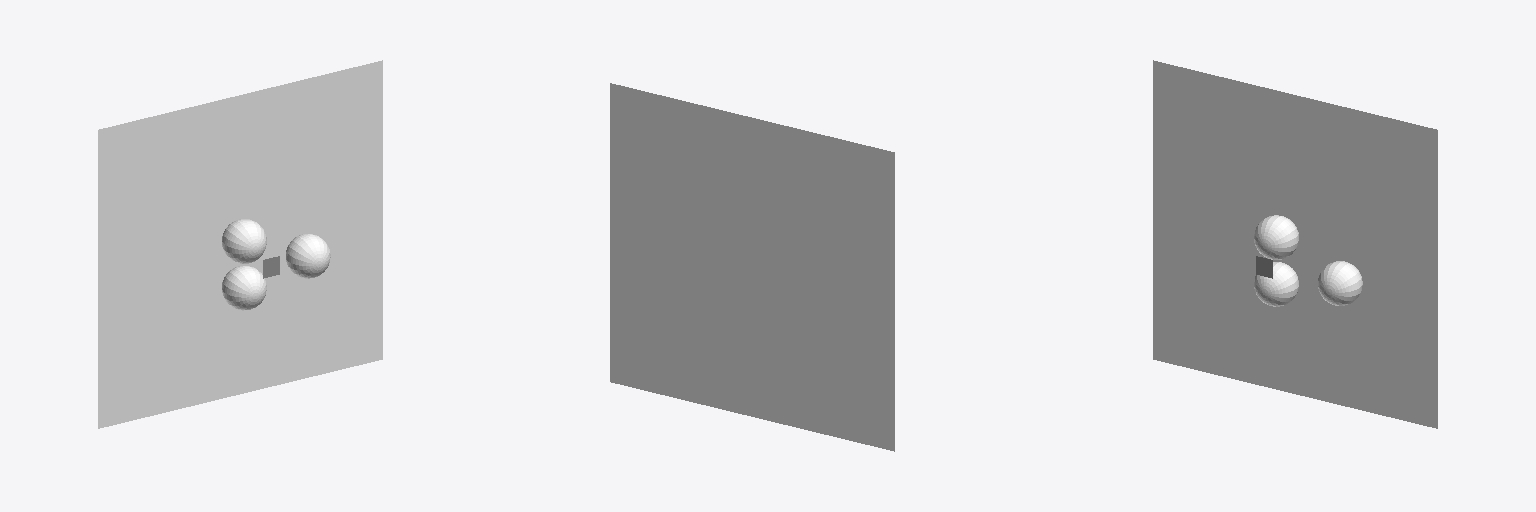
The picture shows the model from 3 angles: view 1: azimuth 30°, elevation 25°; view 2: azimuth 150°, elevation 25°; view 3: azimuth 330°, elevation 25°; orthographic projection.
Parts seen in each view (by area): view 1: floor, sphere2_sphere.002, sphere1_sphere.001, sphere3_sphere; view 2: floor; view 3: floor, sphere2_sphere.002, sphere1_sphere.001, sphere3_sphere.
Part boxes in pixels (x1,y1,x2,y2): floor: (98, 60, 382, 428); sphere2_sphere.002: (222, 219, 266, 263); sphere1_sphere.001: (286, 234, 330, 278); sphere3_sphere: (222, 266, 266, 310); floor: (610, 83, 894, 451); floor: (1153, 60, 1437, 428); sphere2_sphere.002: (1254, 215, 1298, 259); sphere1_sphere.001: (1318, 261, 1362, 305); sphere3_sphere: (1254, 262, 1298, 306).
Bounding box in the file's own units: 16 × 16 × 3.